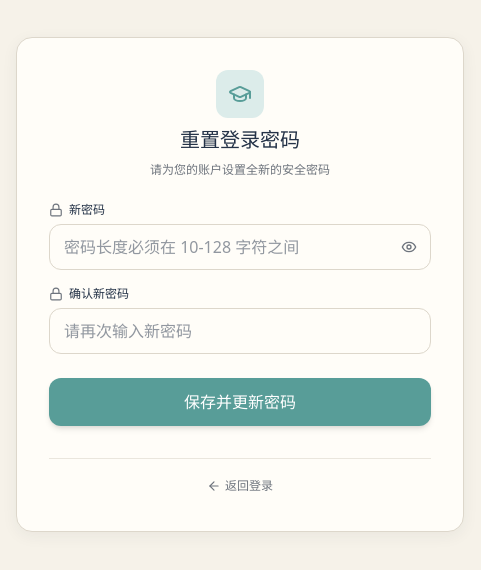
Scenario: Auth Pages › ResetPasswordPage › shows error for short password or passwords mismatch
In the password field with placeholder "密码长度必须在 10-128 字符之间": (240, 246) x1=49 y1=224 x2=431 y2=270, type "short"
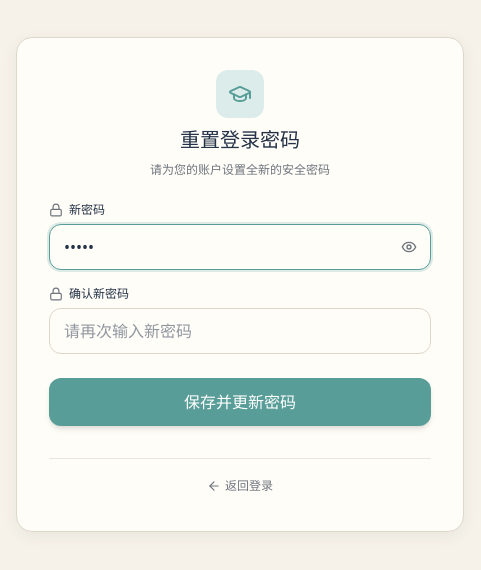
In the password field with placeholder "请再次输入新密码": (240, 330) x1=49 y1=308 x2=431 y2=354, type "mismatch"
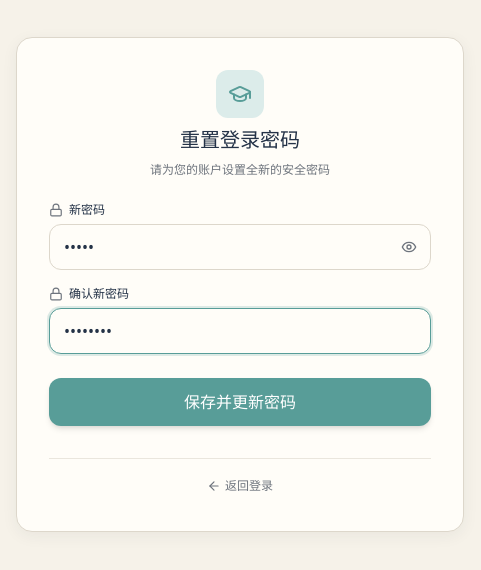
Click the button "保存并更新密码": (240, 402) x1=49 y1=378 x2=431 y2=426
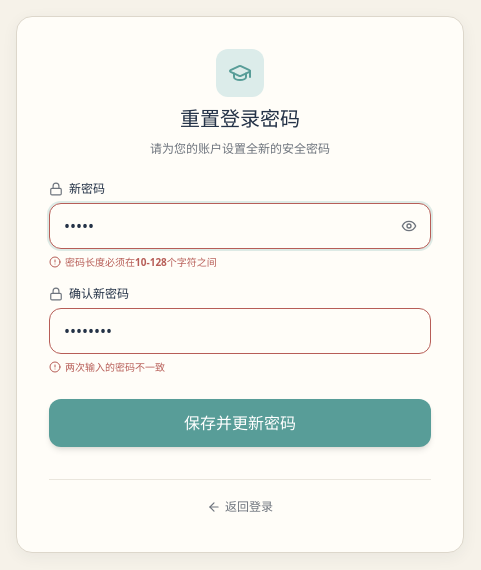
Check: the text "密码长度必须在10-128个字符之间" is shown, box x1=49 y1=254 x2=217 y2=268
